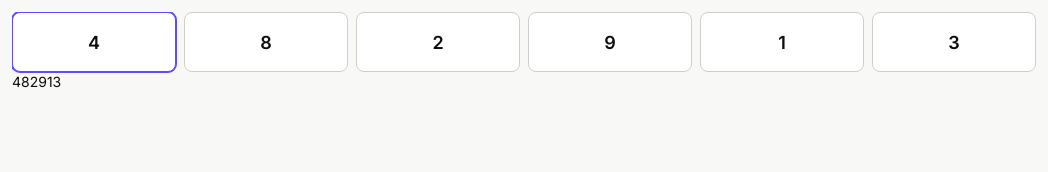
Scenario: CodeInput › replaces a digit typed over, and clears one that is deleted
This screenshot has width=1048, height=172.
Click the field named "Digit 2 of 6": x=266, y=42 [184,12,348,72]
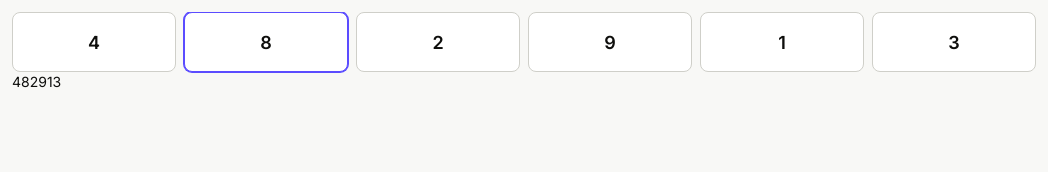
Press Backspace
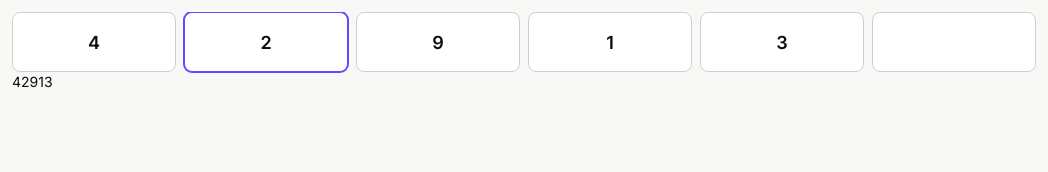
Result: the text "42913" is shown at [12,73,53,90]
// Typing over the first digit replaces just that one.
Replace the text in the field named "Digit 1 of 6" with "47": x=94, y=42 [12,12,176,72]
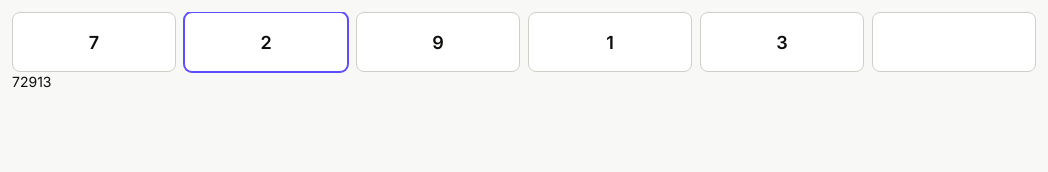
Result: the text "72913" is shown at [12,73,52,90]
